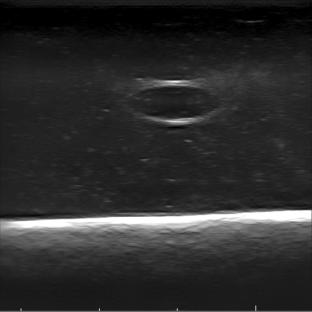vessel: (127, 80, 221, 125)
